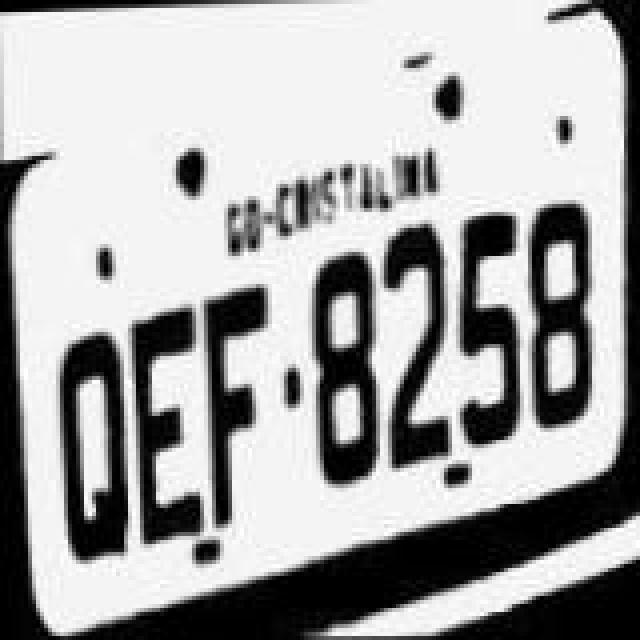2: (380, 222, 460, 478)
5: (450, 216, 530, 456)
8: (518, 202, 598, 446), (300, 246, 380, 486)
E: (126, 294, 206, 542)
F: (204, 268, 276, 532)
Q: (50, 308, 130, 564)
